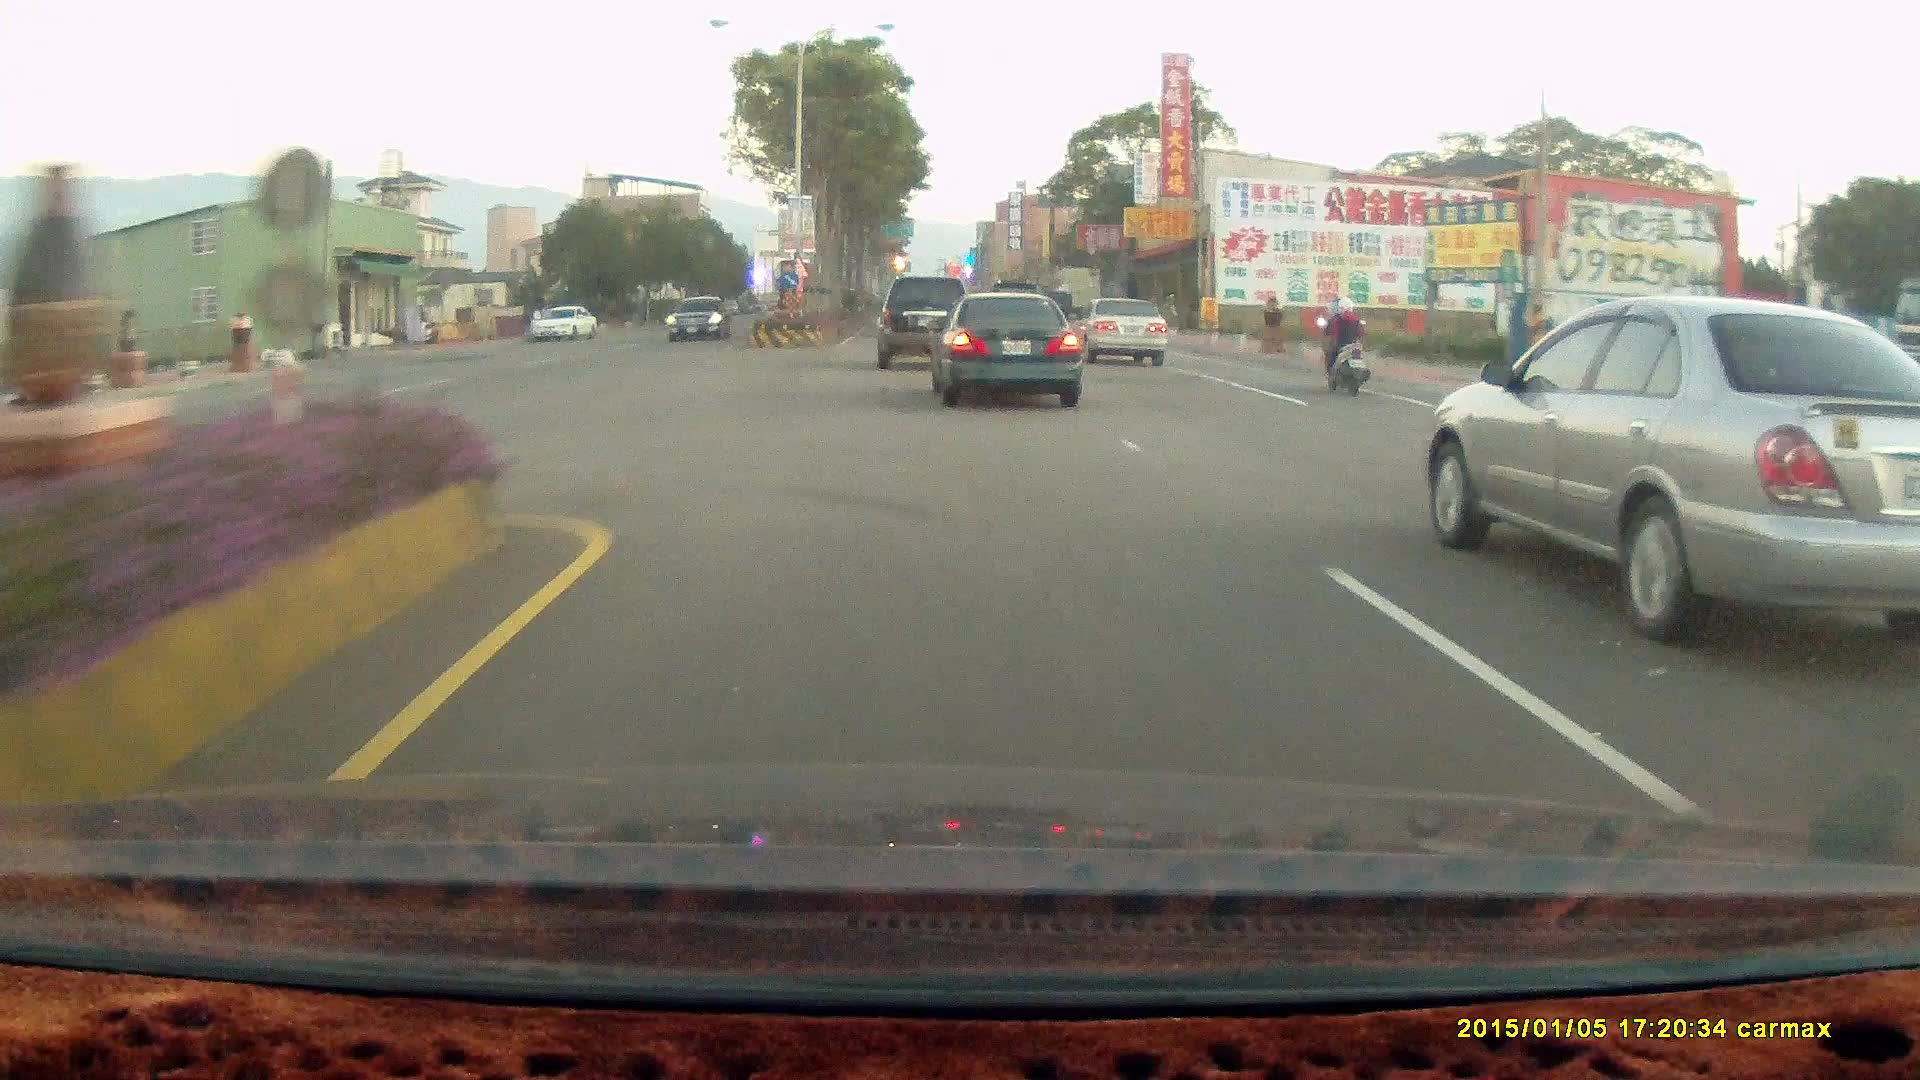rider: (1308, 285, 1382, 406), (1313, 293, 1369, 392)
vehicle: (1420, 297, 1920, 655), (923, 290, 1079, 406), (934, 297, 1085, 409), (880, 274, 976, 374), (876, 277, 970, 371), (1072, 295, 1168, 364), (1074, 301, 1169, 367), (666, 296, 734, 344), (667, 294, 733, 338), (528, 305, 597, 343), (531, 307, 600, 346)
